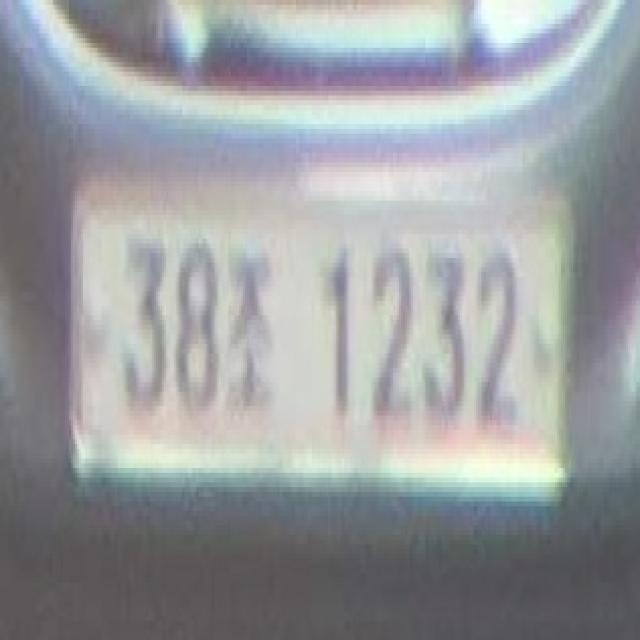1: (322, 244, 350, 420)
2: (369, 229, 415, 425), (472, 248, 520, 435)
3: (120, 234, 170, 411), (425, 243, 468, 430)
8: (176, 234, 219, 416)
jo: (219, 244, 277, 420)
license_plate: (69, 177, 575, 520)
